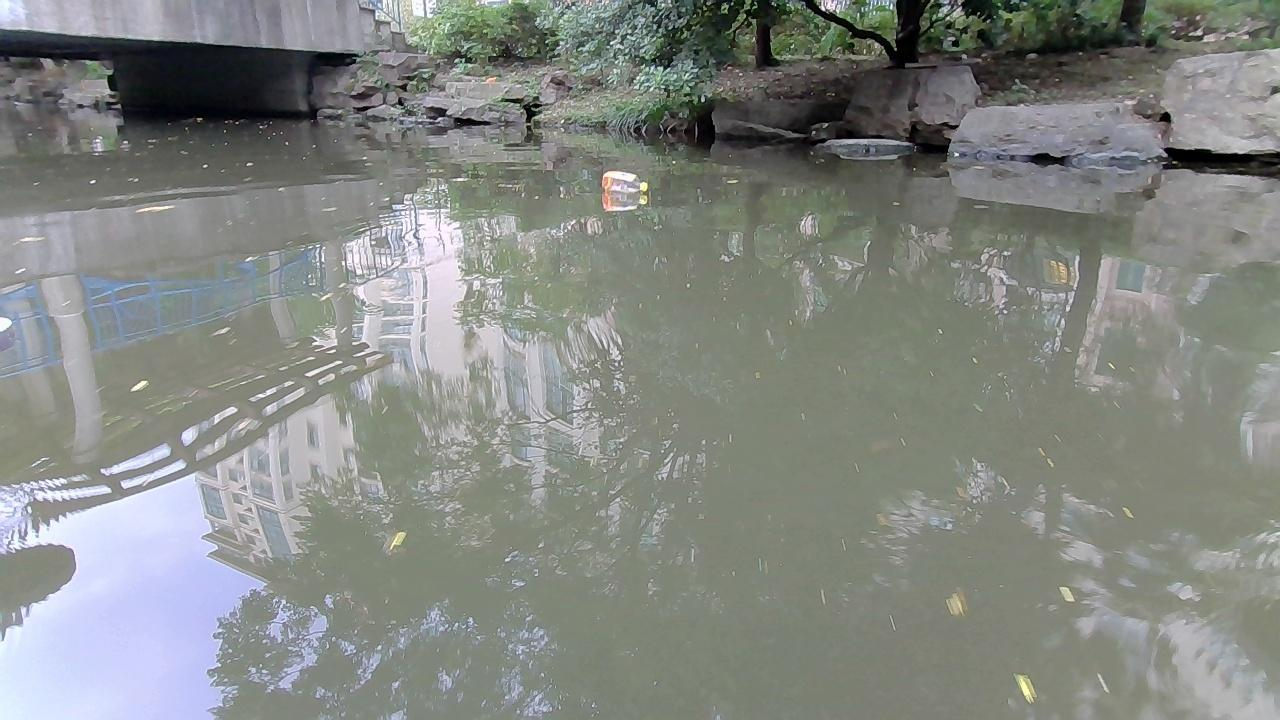bottle: (603, 171, 647, 193)
